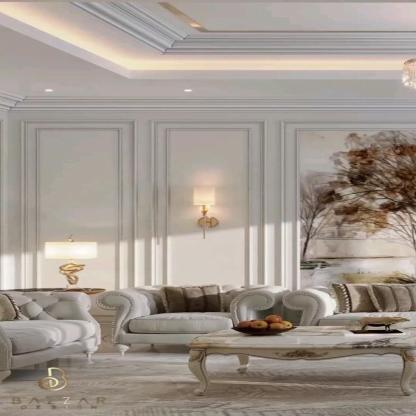Futec frame: (279, 105, 411, 309), (140, 108, 278, 291), (9, 110, 144, 288)
